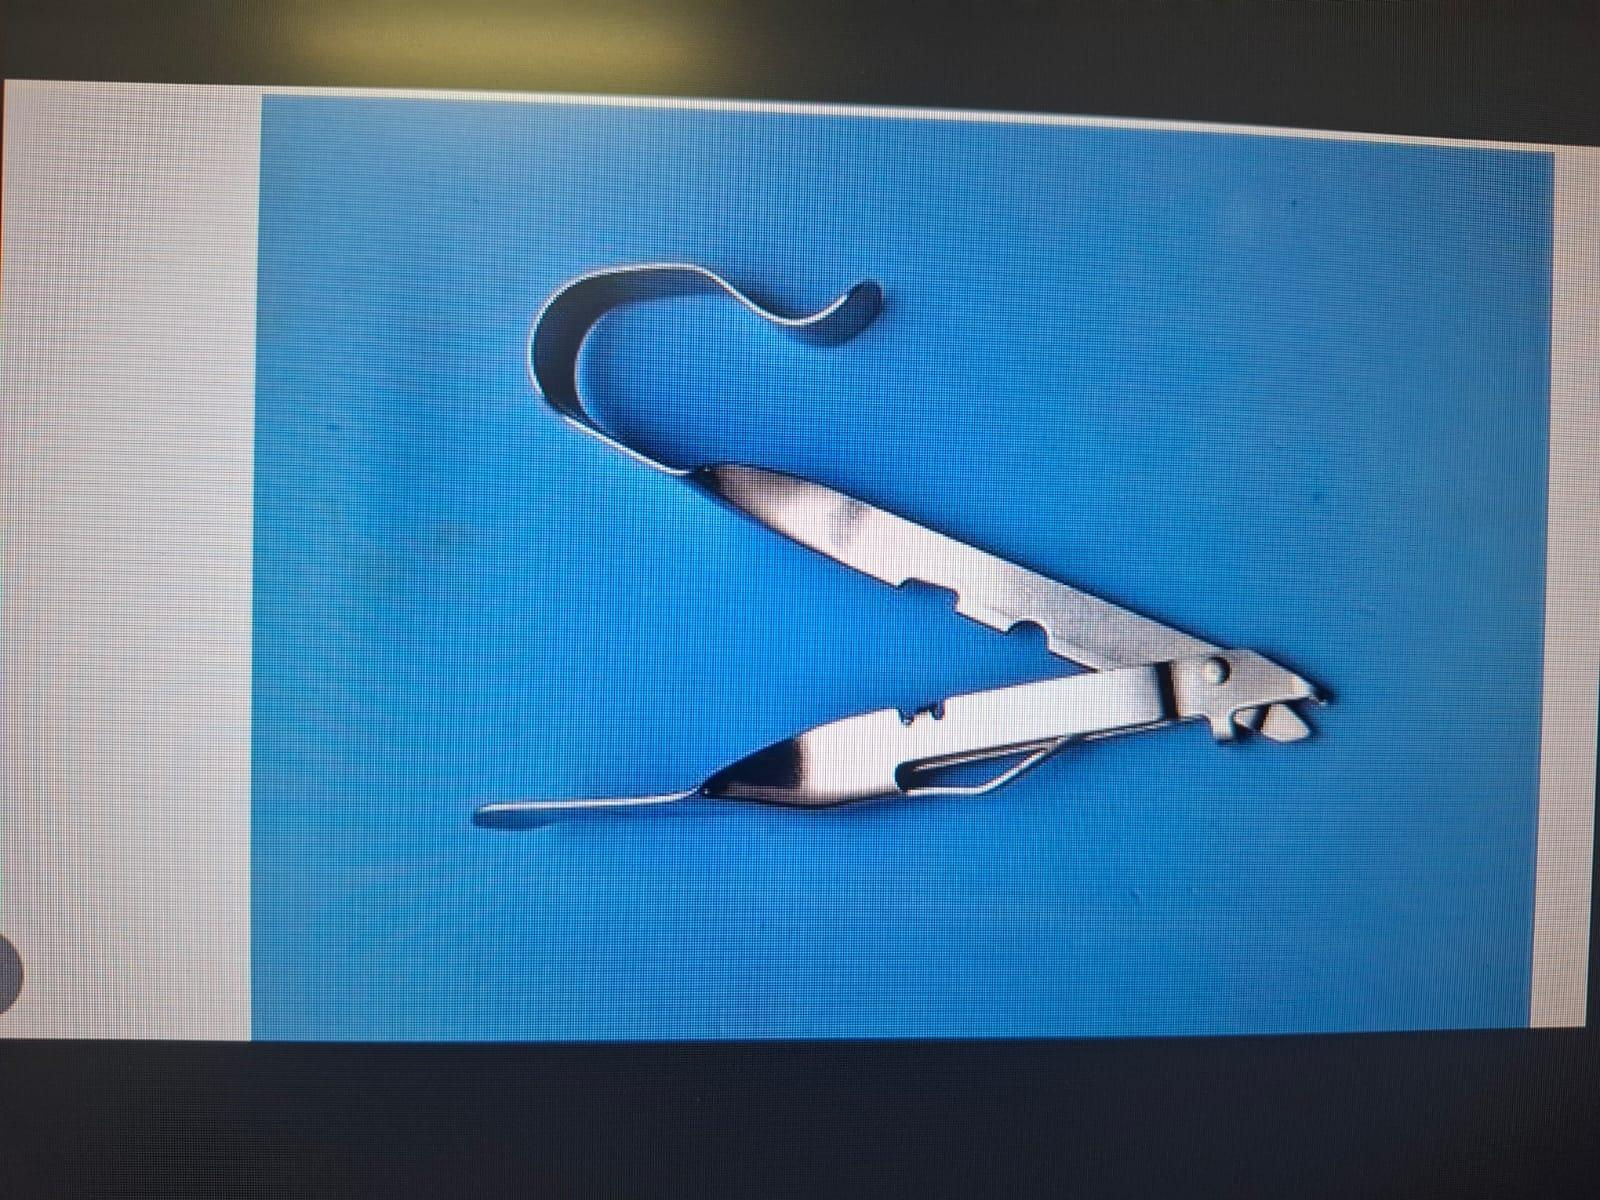Stapler Remover: (456, 255, 1348, 848)
